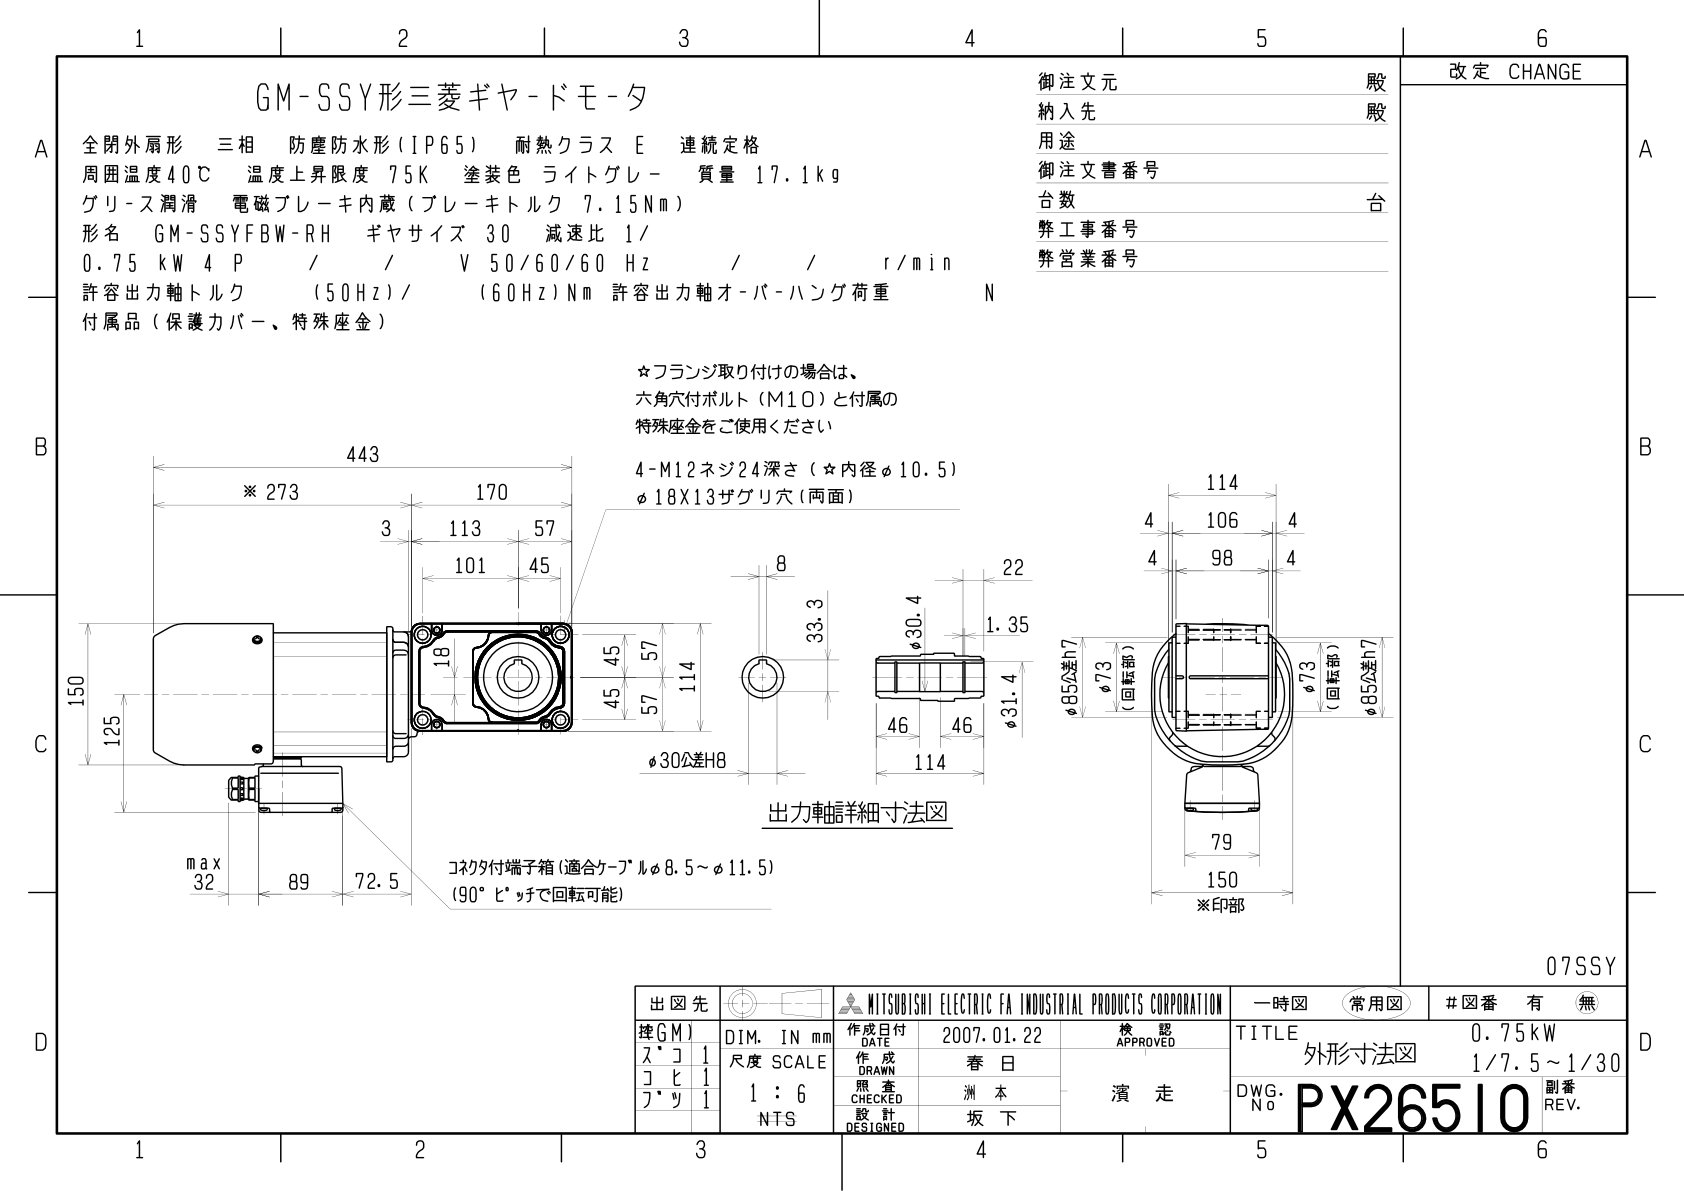GM_SSY_IP65_三相: (23, 26, 1684, 1191)
